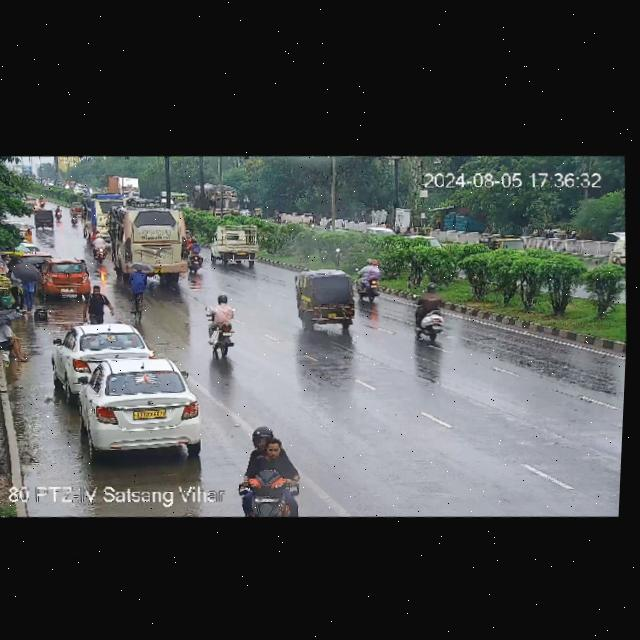bus: (106, 196, 194, 282), (78, 189, 117, 247)
car: (72, 351, 205, 460), (53, 319, 150, 386), (291, 265, 367, 336), (38, 259, 92, 298)
motorcycle: (230, 421, 306, 521), (405, 281, 454, 346), (200, 291, 241, 361), (353, 257, 395, 304), (185, 238, 209, 276), (91, 233, 108, 265), (69, 201, 85, 226)
person: (0, 311, 36, 367), (125, 260, 155, 303), (82, 282, 112, 324), (10, 263, 27, 308), (21, 277, 37, 311)
truck: (212, 224, 265, 269), (191, 183, 242, 218)
